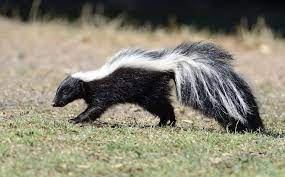skunk: (53, 41, 265, 132)
